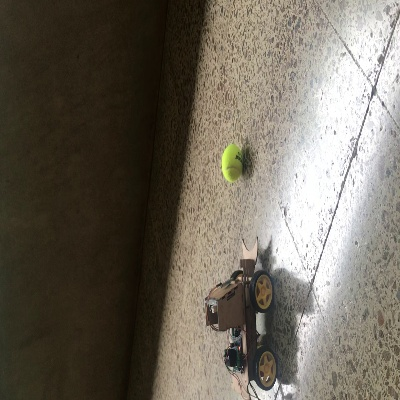Ball: (221, 143, 243, 182)
Robot: (204, 235, 276, 399)
